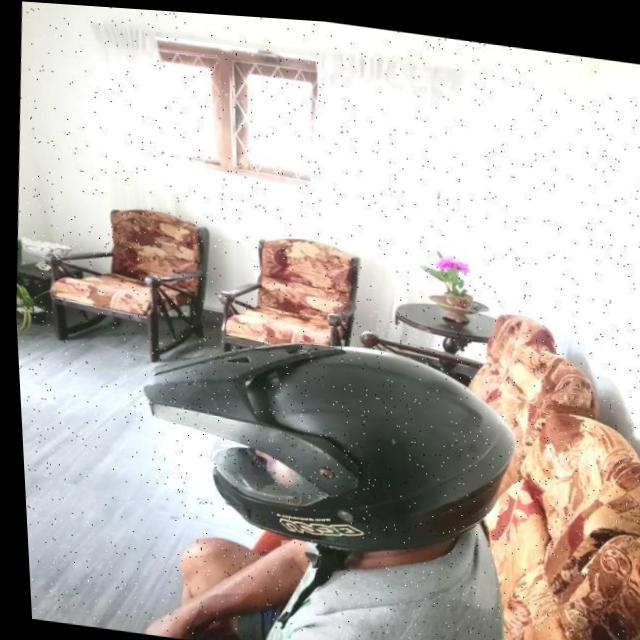helmet: (118, 314, 527, 640)
